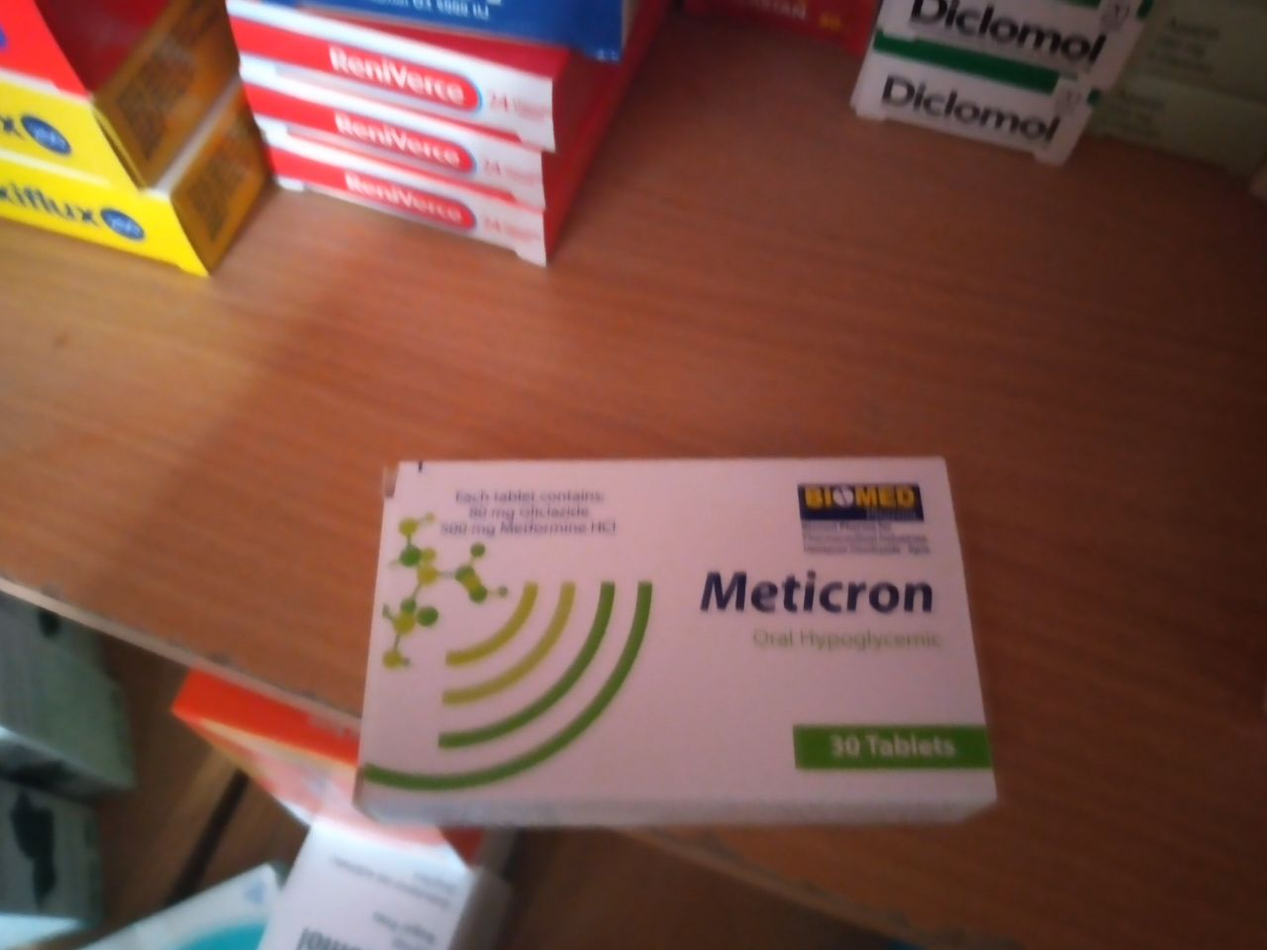Medicine: (356, 438, 1007, 861)
